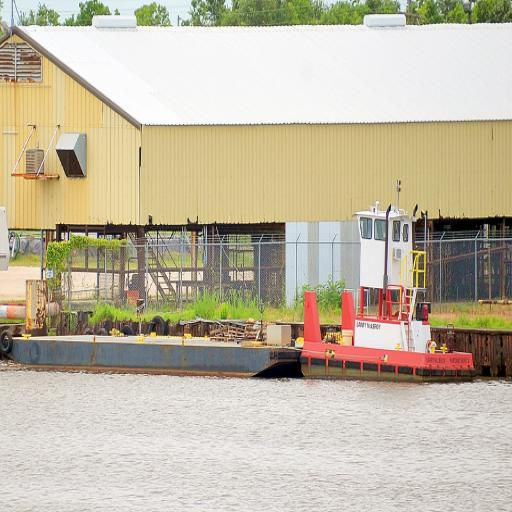tugboat: (298, 177, 481, 398)
